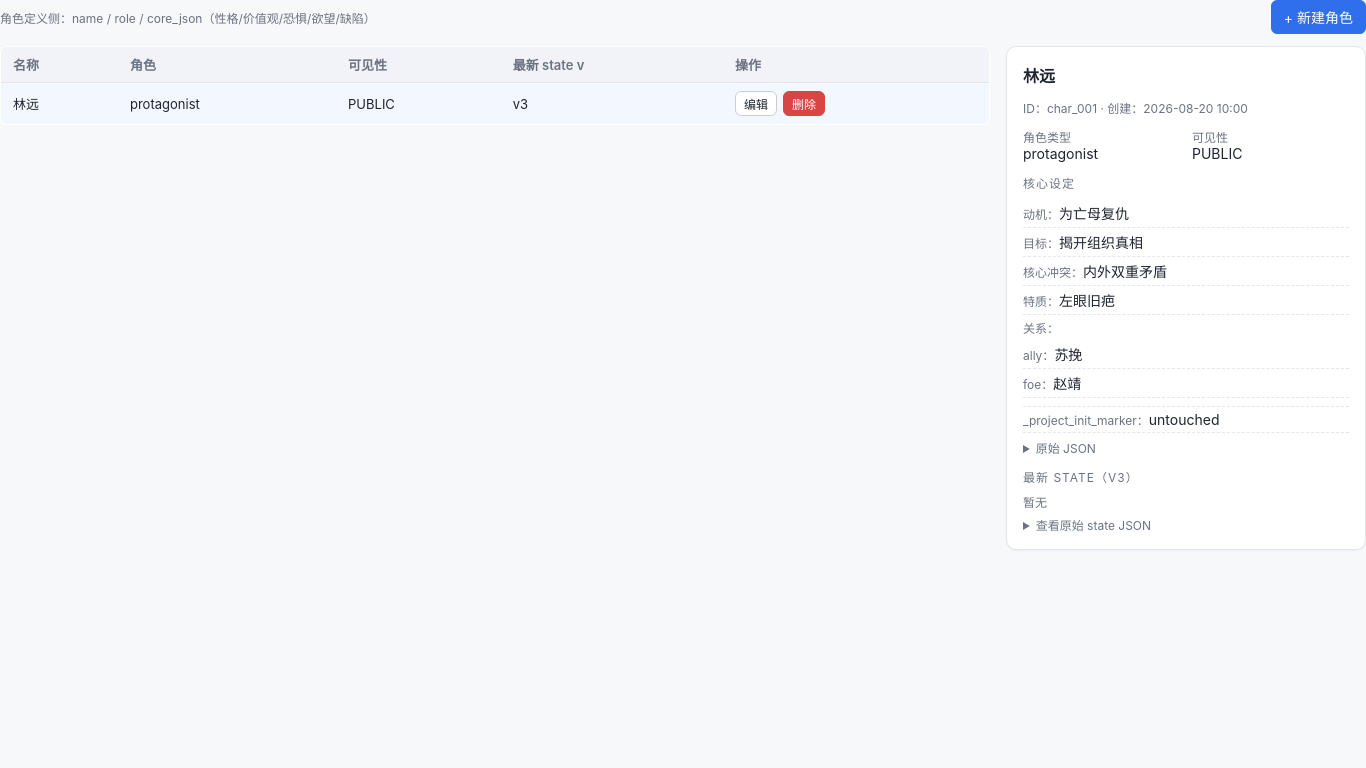
CharacterTab 编辑保存——core_json merge 语义 › 编辑角色打开表单时，core_json 中的 motivation/goal/conflict/distinctive_trait/relationships 全部回显
This screenshot has width=1366, height=768.
Step 1. Click the button "编辑" → (756, 104), box [735, 91, 777, 116]
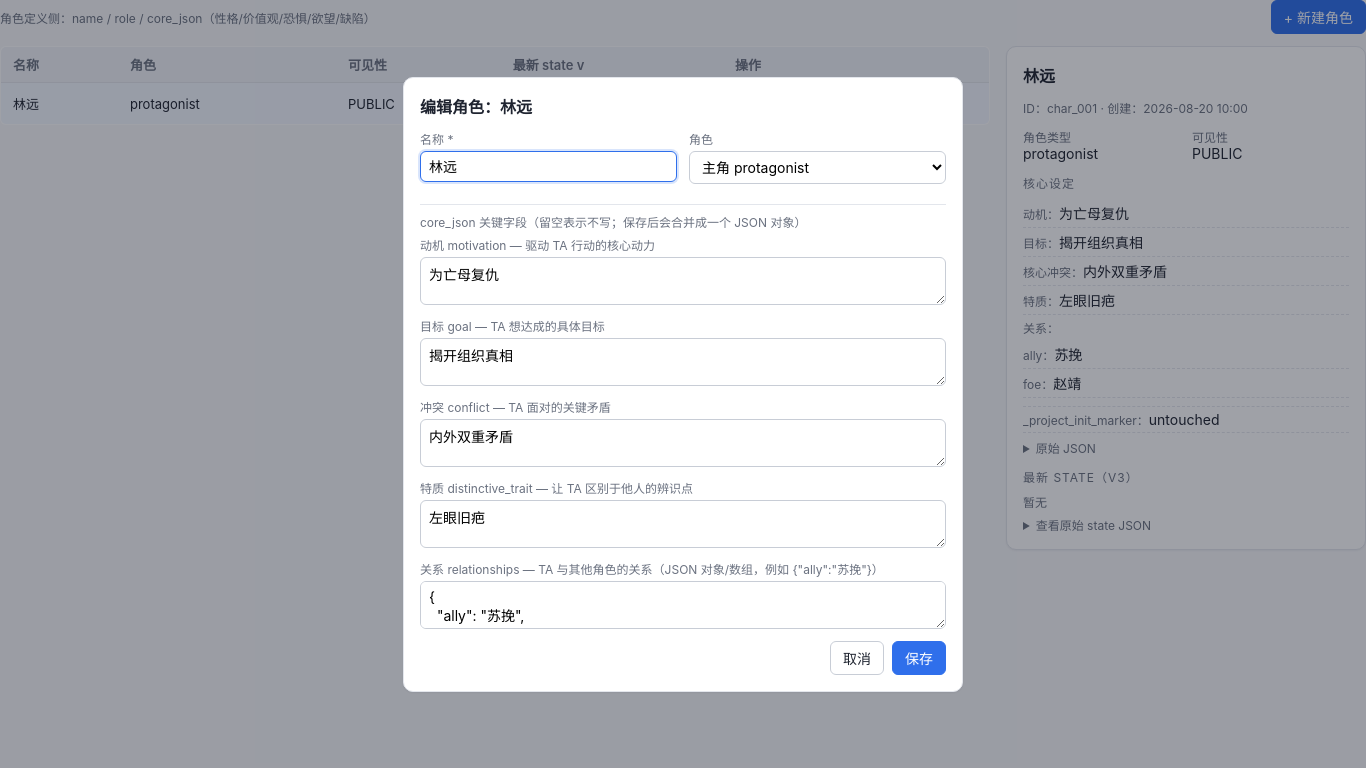
Now the text "编辑角色：林远" is shown, box [420, 96, 532, 116]
Now the text box below "动机 motivation" holds "为亡母复仇", box [420, 256, 946, 304]
Now the text box below "目标 goal" holds "揭开组织真相", box [420, 338, 946, 386]
